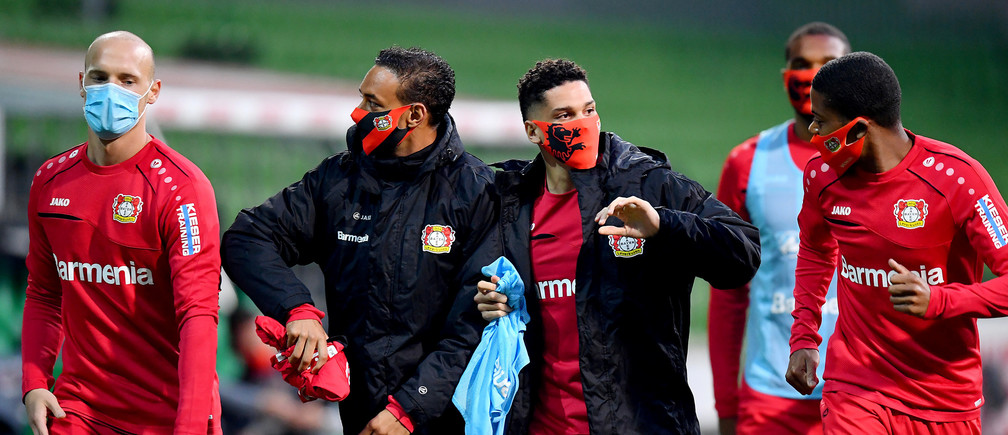with_incorrect_mask: (808, 107, 865, 166)
with_mask: (520, 89, 606, 166), (353, 75, 424, 157), (79, 62, 145, 137)
